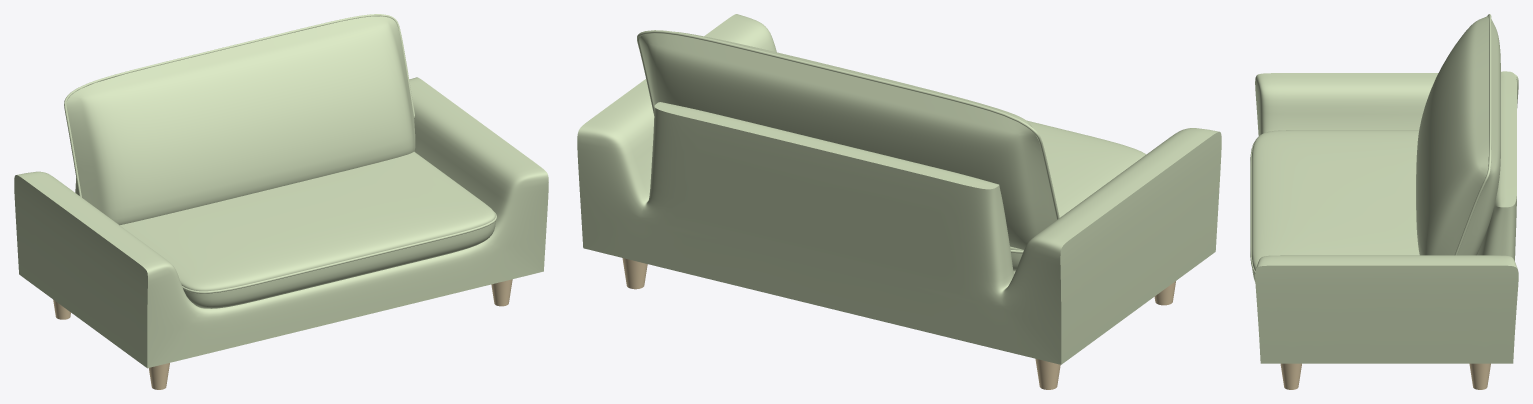
File: 073_ソファー.glb
3 renders of one model, left to right at view 1: azimuth 30°, elevation 25°; view 2: azimuth 150°, elevation 25°; view 3: azimuth 270°, elevation 25°, orthographic. The views are drawn at different scales.
Visible parts, largest first — view 1: Body; view 2: Body; view 3: Body.
Part boxes in pixels (x1,y1,x2,y2): Body: (14,14,548,389); Body: (577,14,1221,389); Body: (1250,14,1518,389).
Bounding box in the file's own units: 1.26 × 0.6774 × 0.7439.
